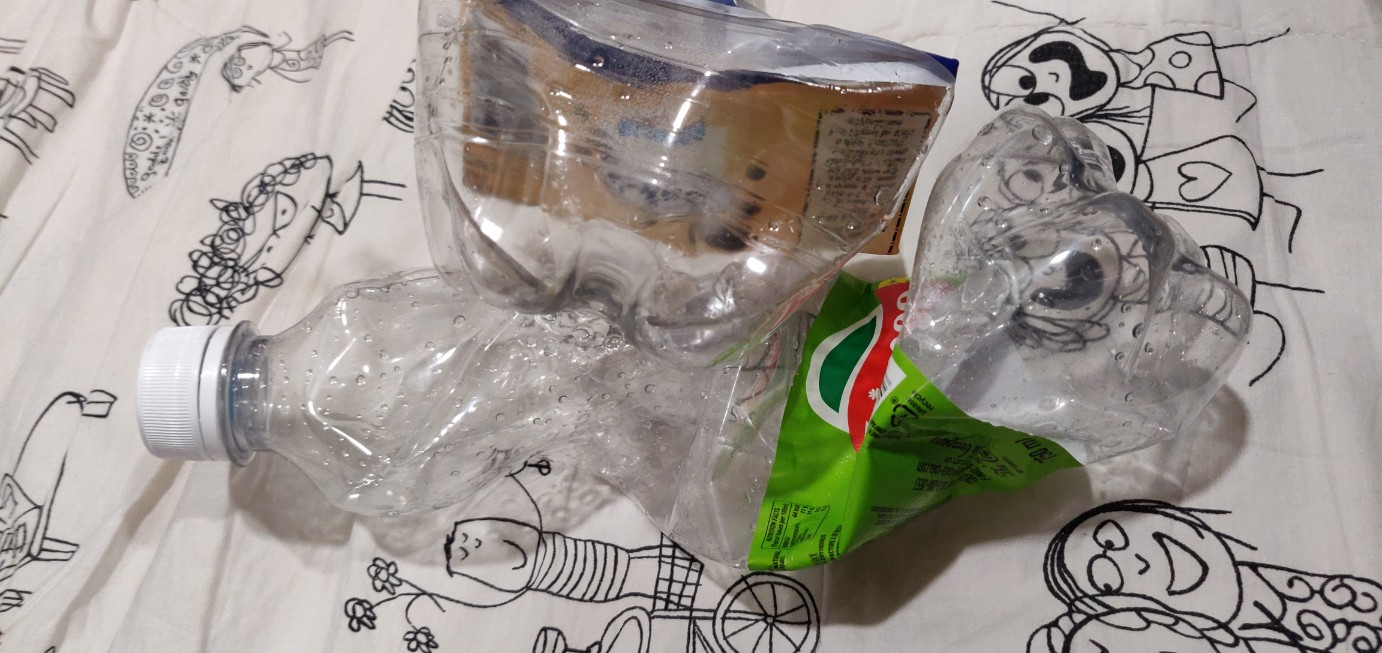Electronics: (106, 101, 1266, 604), (399, 1, 979, 419)
